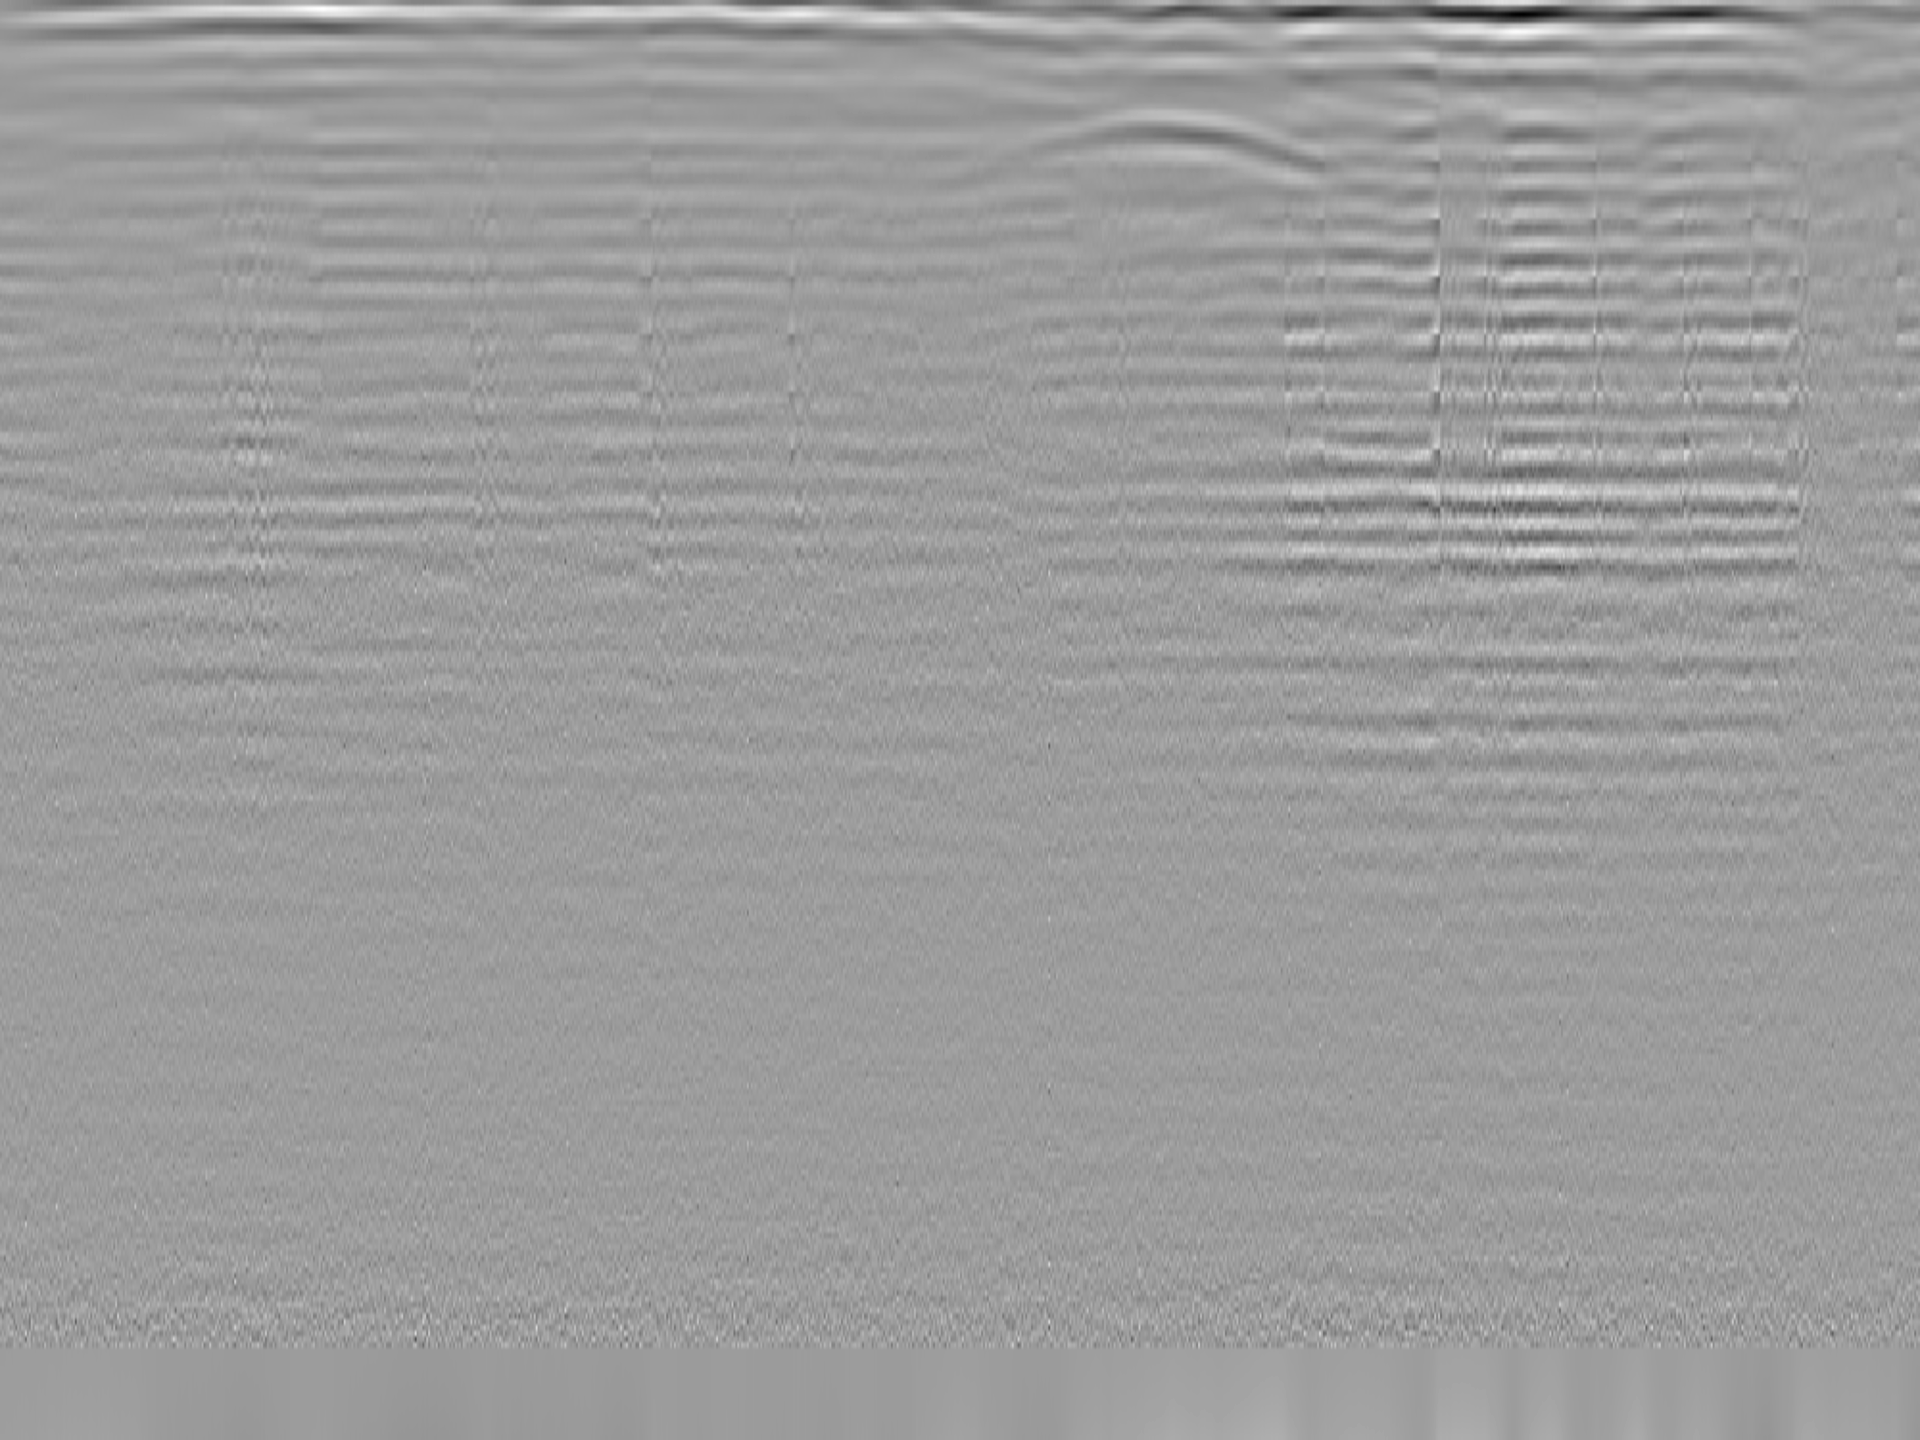Tunnel: (928, 106, 1364, 182)
